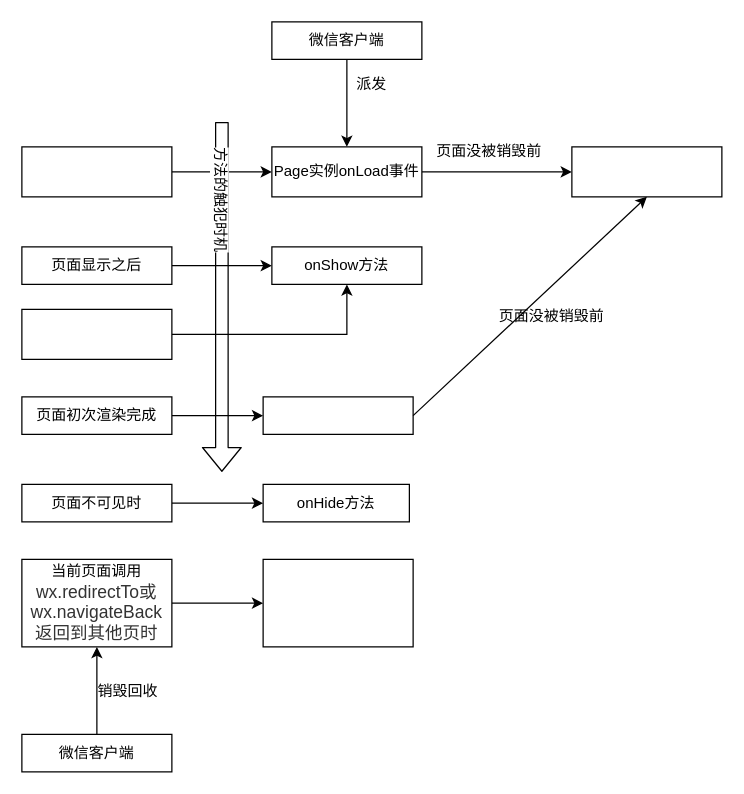
This 744x794 diagram has some shape labels left out. The box of each missing label's shape, as (x1, y1, x2, y2) in pixels:
onReady方法: (262, 396, 413, 434)
onUnload方法: (262, 558, 413, 647)
从别的页面切换到当前页面: (21, 308, 172, 359)
只调用一次: (571, 146, 722, 197)
页面初次加载: (21, 146, 172, 197)
